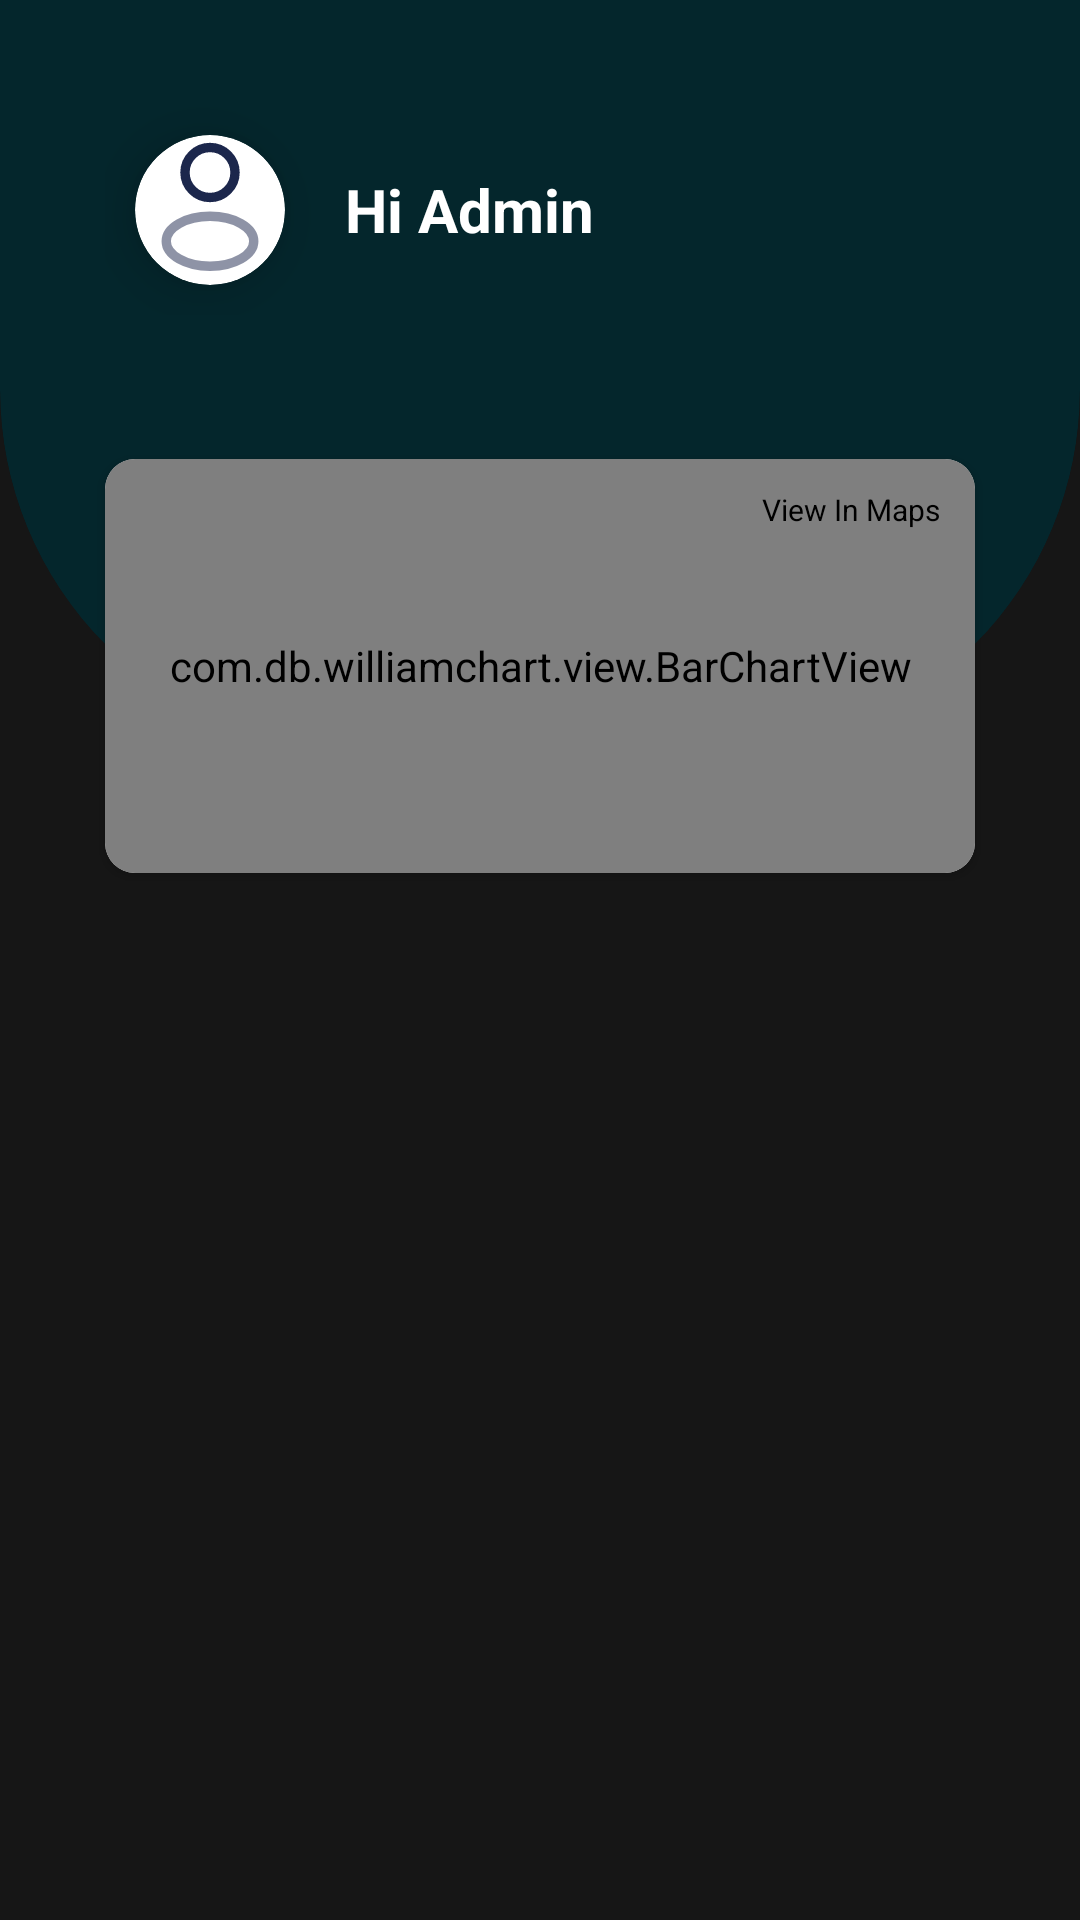

Screen size 1080w x 1920h. Icon name, then its center in pixels as (x,y):
user: (210,210)
